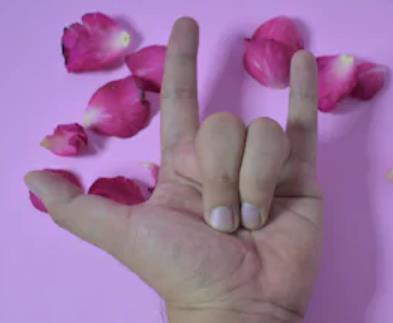back: (21, 17, 329, 302)
